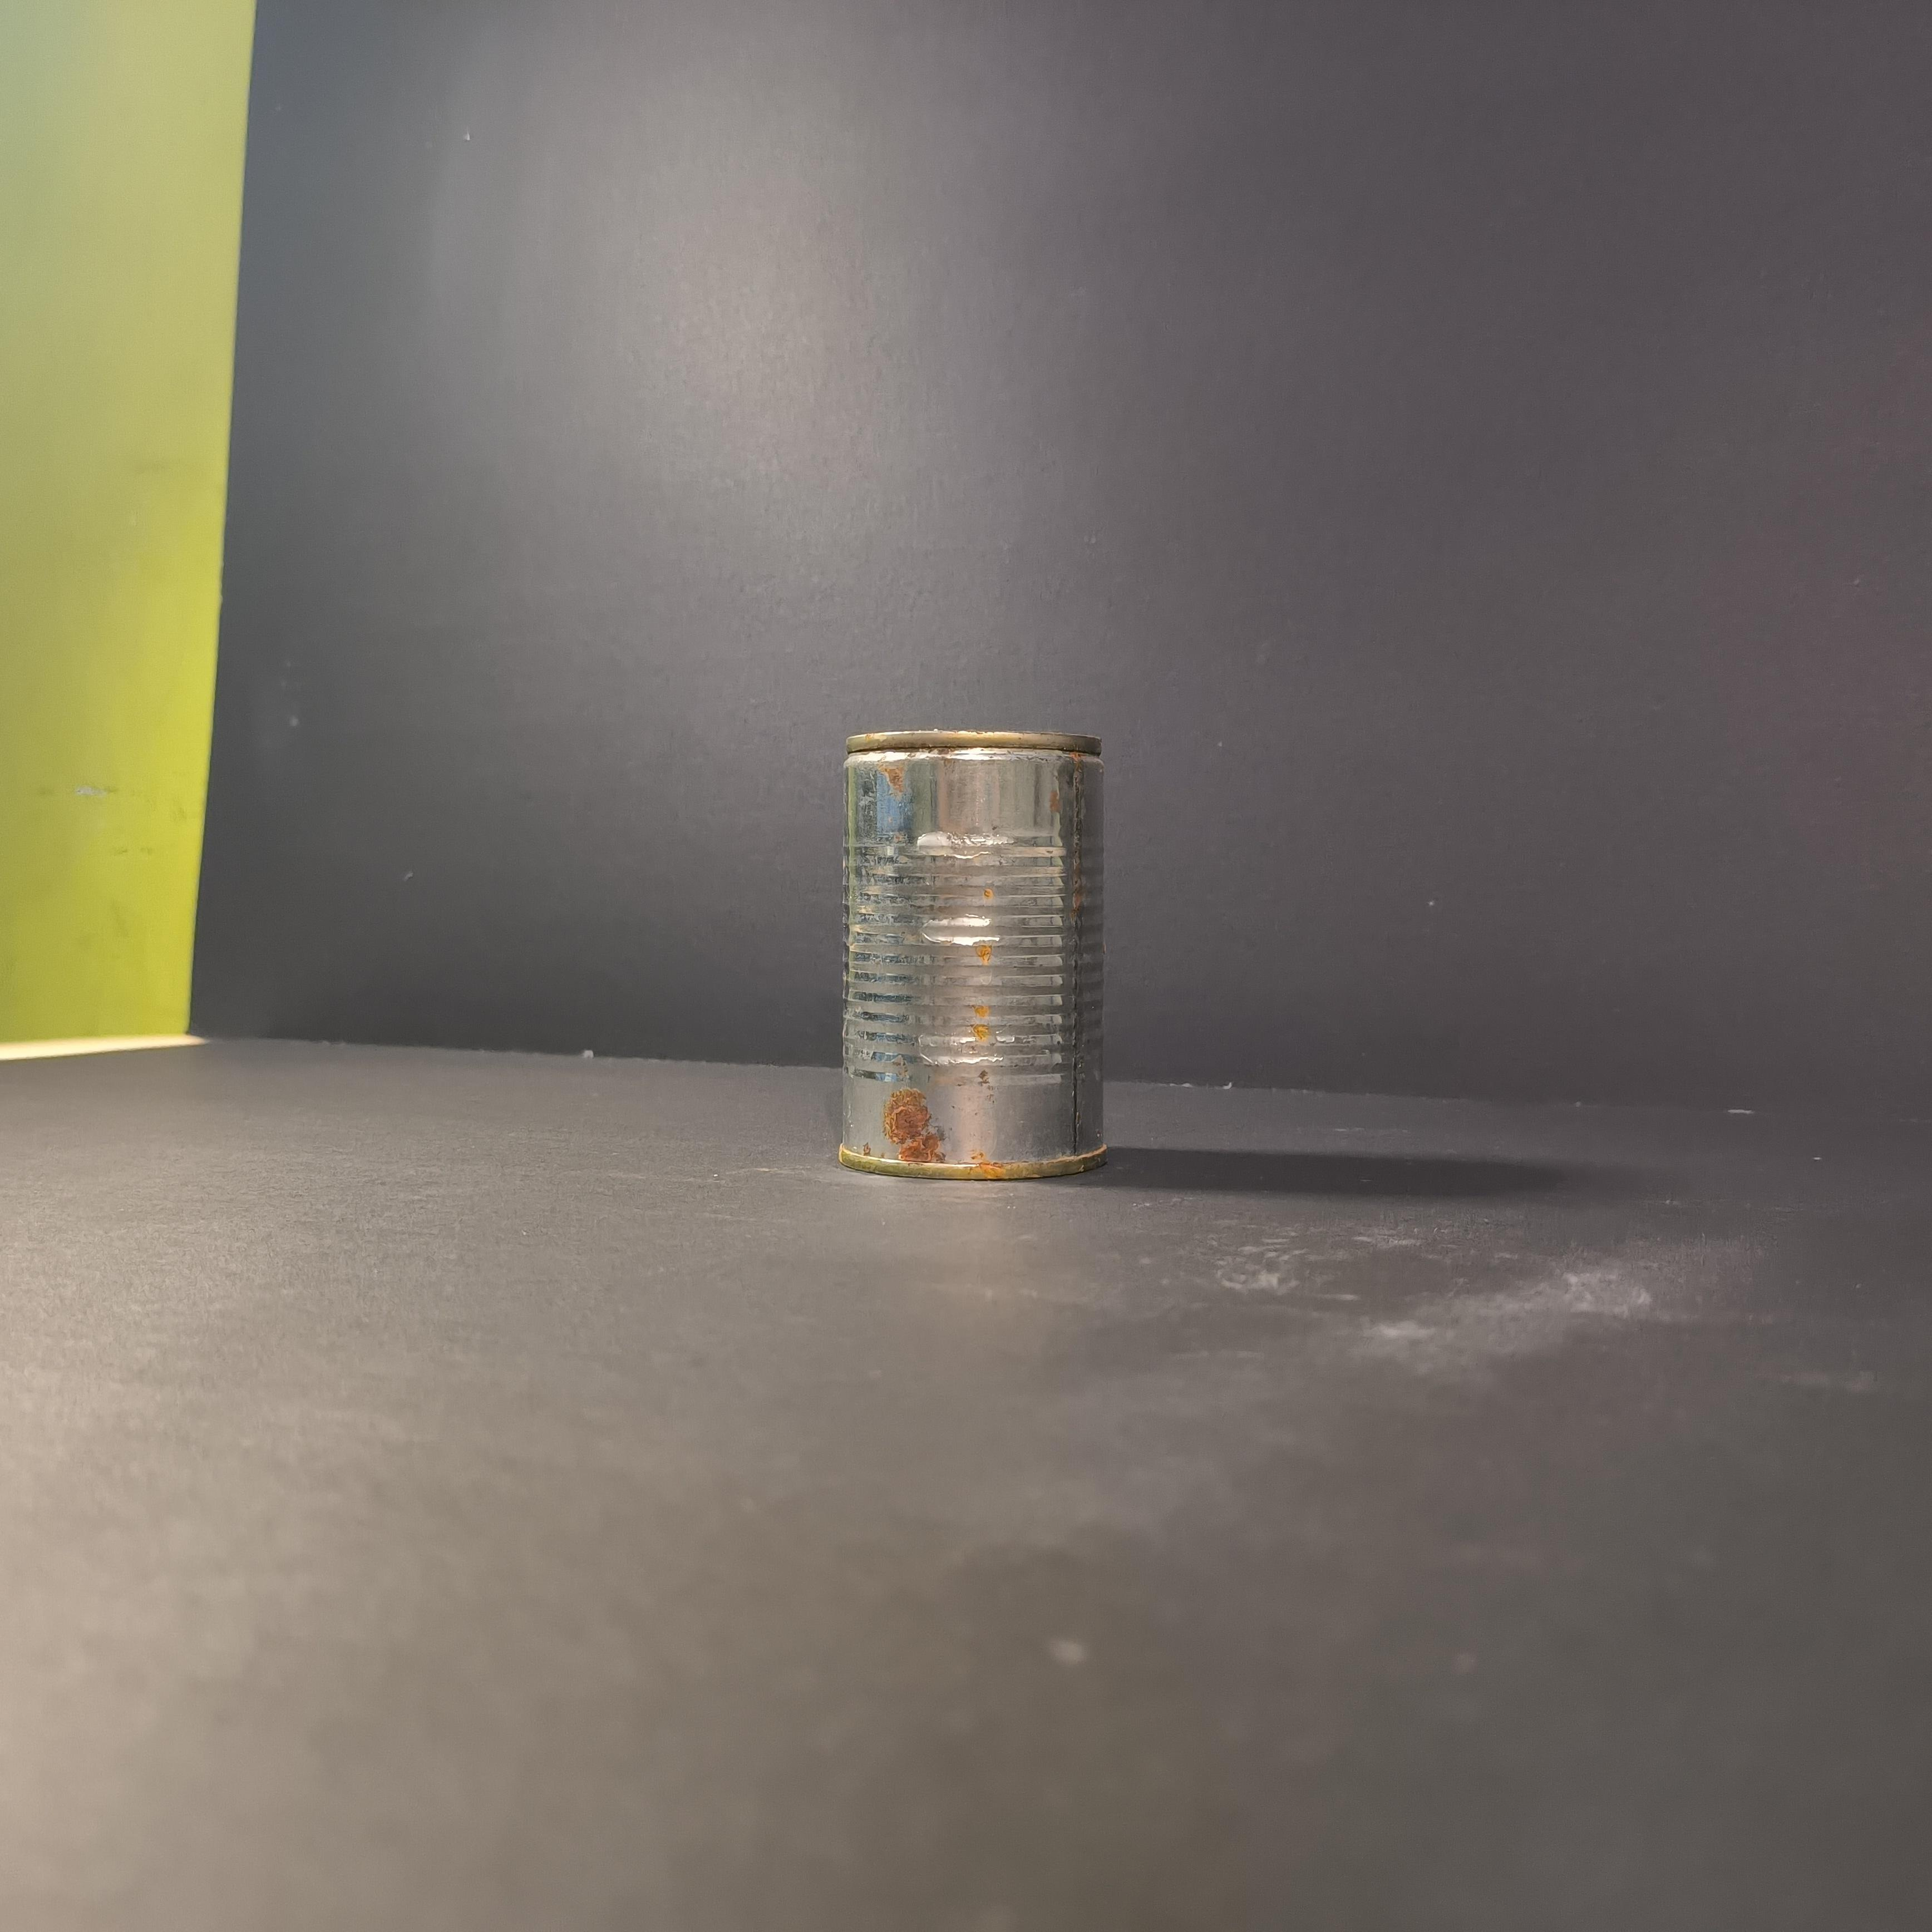Rusted: (835, 709, 1123, 1201)
